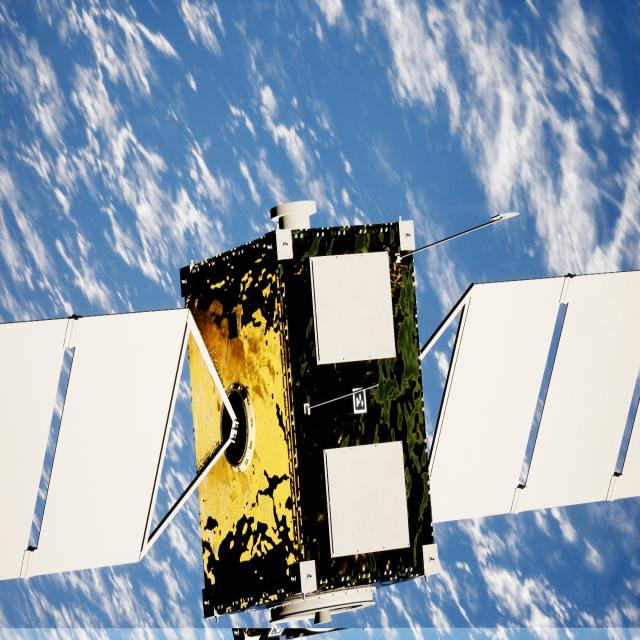medium_debris: (0, 202, 640, 640)
